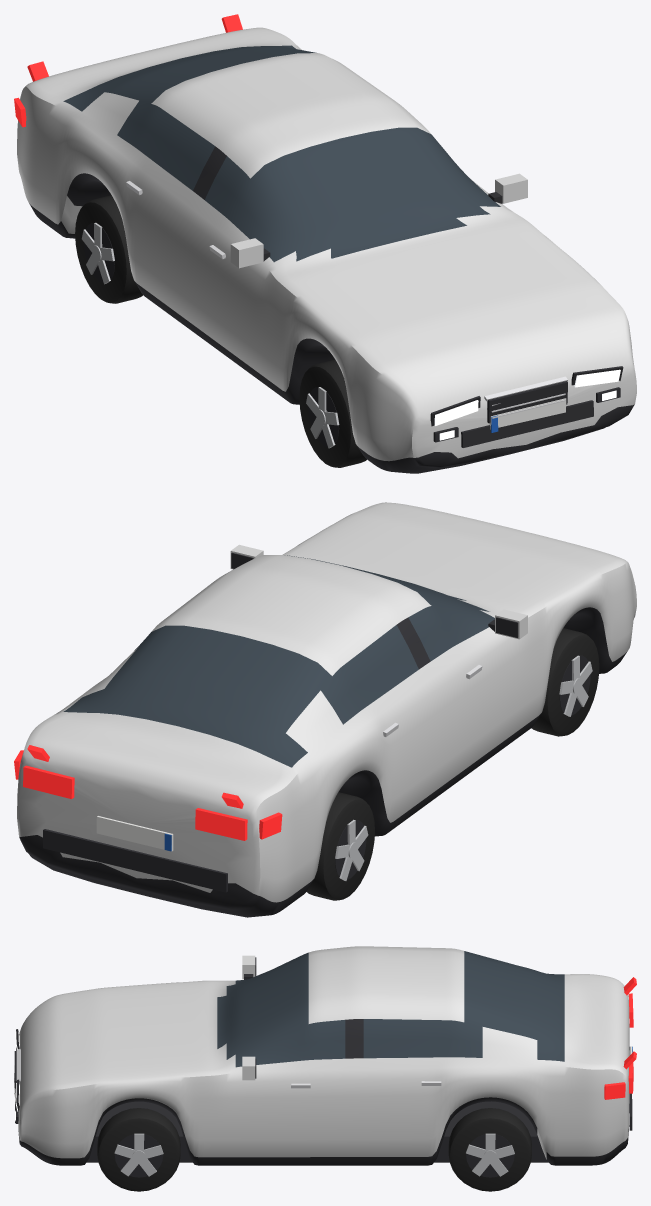
Rendered from car_octavia.glb.
3 views of the same model, one above another, from view 1: azimuth 30°, elevation 25°; view 2: azimuth 150°, elevation 25°; view 3: azimuth 270°, elevation 25° (orthographic). The views are drawn at different scales.
Visible parts, largest first — view 1: car_octavia; view 2: car_octavia; view 3: car_octavia.
Boxes of the visible parts, bbox=[...] form: car_octavia: bbox=[14, 14, 636, 473]; car_octavia: bbox=[14, 502, 636, 917]; car_octavia: bbox=[14, 946, 636, 1191].
Size of the model in its own units: 2 by 1.49 by 4.77.
